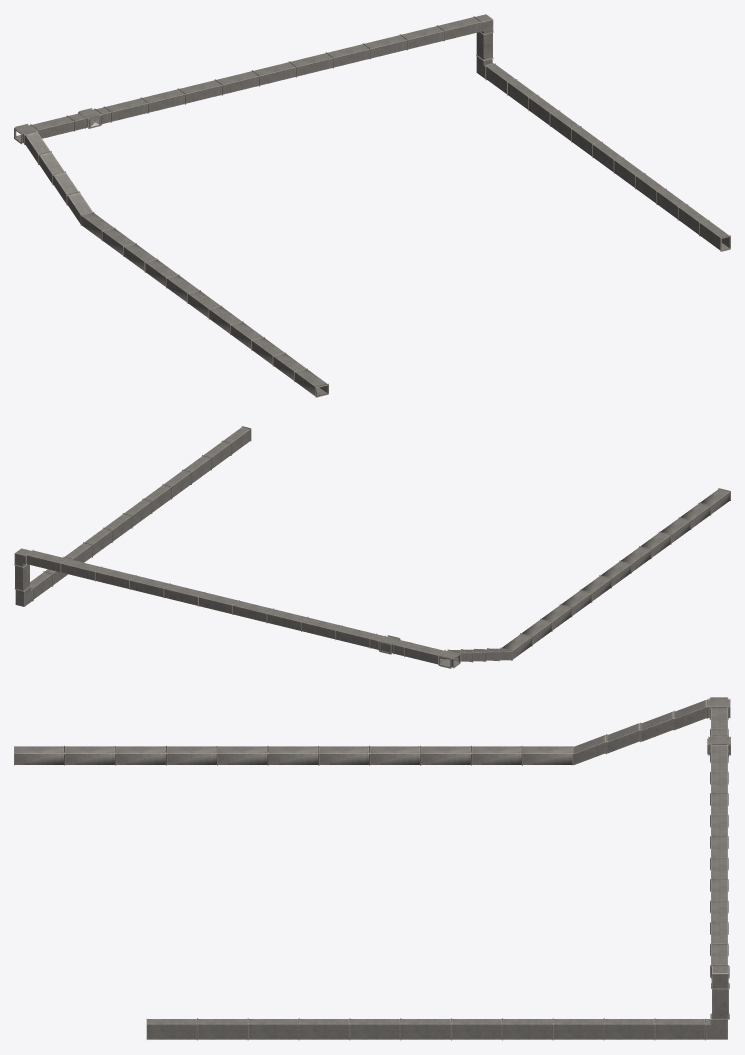
Rendered from Scale.fbx_L_ftung.fbx.
3 views of the same model, one above another, from view 1: azimuth 30°, elevation 25°; view 2: azimuth 150°, elevation 25°; view 3: azimuth 270°, elevation 25° (orthographic). The views are drawn at different scales.
Visible parts, largest first — view 1: modular_airduct_rectangular_01_tripple_01.001, modular_airduct_rectangular_01_tripple_01.002, modular_airduct_rectangular_01_tripple_01; view 2: modular_airduct_rectangular_01_tripple_01.001, modular_airduct_rectangular_01_tripple_01, modular_airduct_rectangular_01_tripple_01.002; view 3: modular_airduct_rectangular_01_tripple_01.002, modular_airduct_rectangular_01_tripple_01, modular_airduct_rectangular_01_tripple_01.001, modular_airduct_rectangular_01_transition_double_01.003, modular_airduct_rectangular_01_transition_double_01.002, modular_airduct_rectangular_01_transition_double_01.005, modular_airduct_rectangular_01_transition_double_01.004.
Part boxes in pixels (<box>): modular_airduct_rectangular_01_tripple_01.001: <box>30,16,481,138</box>; modular_airduct_rectangular_01_tripple_01.002: <box>485,63,730,251</box>; modular_airduct_rectangular_01_tripple_01: <box>81,212,328,397</box>; modular_airduct_rectangular_01_tripple_01.001: <box>26,549,445,664</box>; modular_airduct_rectangular_01_tripple_01: <box>500,488,730,660</box>; modular_airduct_rectangular_01_tripple_01.002: <box>30,426,251,599</box>; modular_airduct_rectangular_01_tripple_01.002: <box>146,1018,705,1040</box>; modular_airduct_rectangular_01_tripple_01: <box>14,745,572,765</box>; modular_airduct_rectangular_01_tripple_01.001: <box>710,707,728,977</box>; modular_airduct_rectangular_01_transition_double_01.003: <box>606,723,640,753</box>; modular_airduct_rectangular_01_transition_double_01.002: <box>572,734,606,765</box>; modular_airduct_rectangular_01_transition_double_01.005: <box>673,699,707,730</box>; modular_airduct_rectangular_01_transition_double_01.004: <box>640,711,674,741</box>.
Size of the model in its own units: 23.02 by 25.39 by 2.71.
